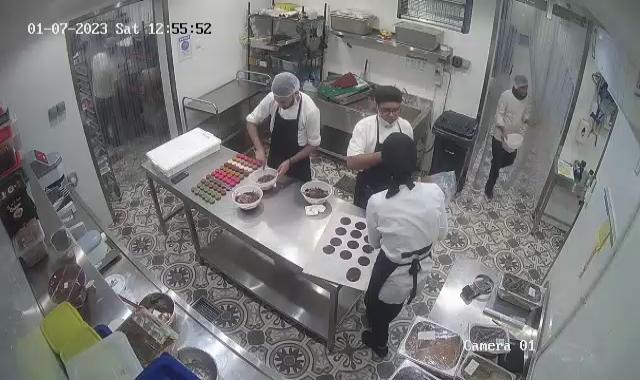hairnet: (272, 72, 299, 110), (512, 75, 528, 94)
no_hairnet: (380, 130, 417, 180), (375, 83, 402, 115)
